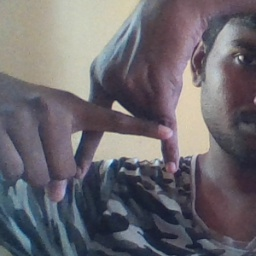H: (51, 59, 189, 188)
